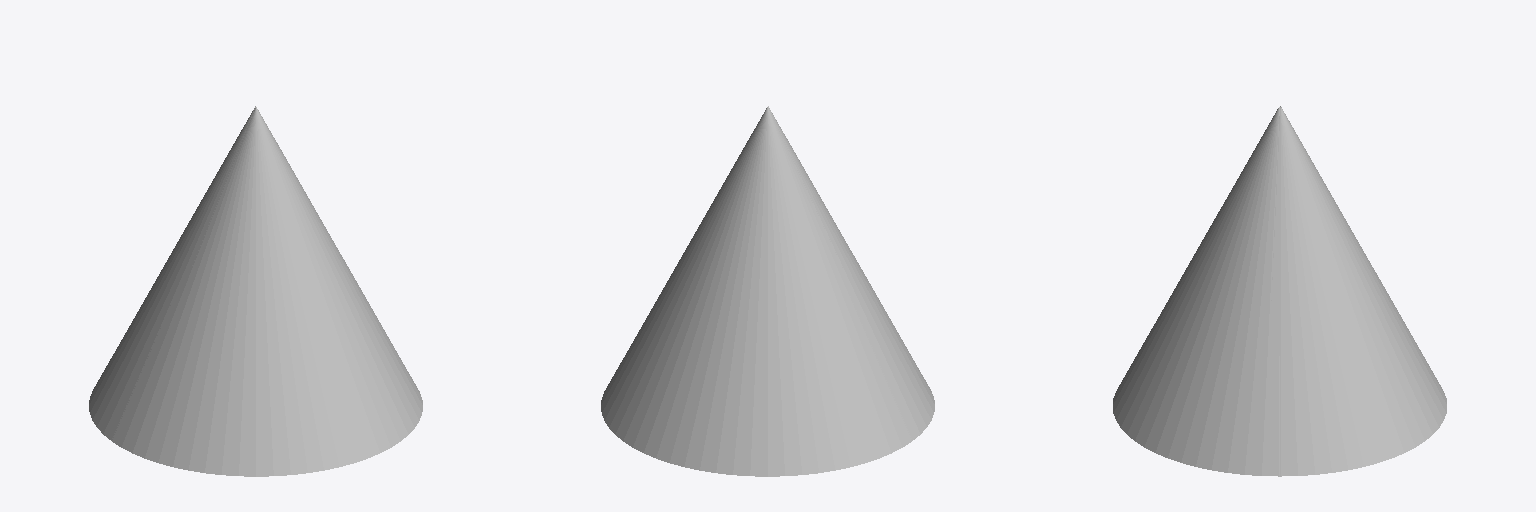
File: cone-tall.obj
3 renders of one model, left to right at view 1: azimuth 30°, elevation 25°; view 2: azimuth 150°, elevation 25°; view 3: azimuth 270°, elevation 25°, orthographic.
Visible parts, largest first — view 1: pCone3; view 2: pCone3; view 3: pCone3.
Part boxes in pixels (x1,y1,x2,y2): pCone3: (89,106,422,476); pCone3: (601,106,934,476); pCone3: (1113,106,1446,476).
Bounding box in the file's own units: 20.15 × 19.98 × 20.23.